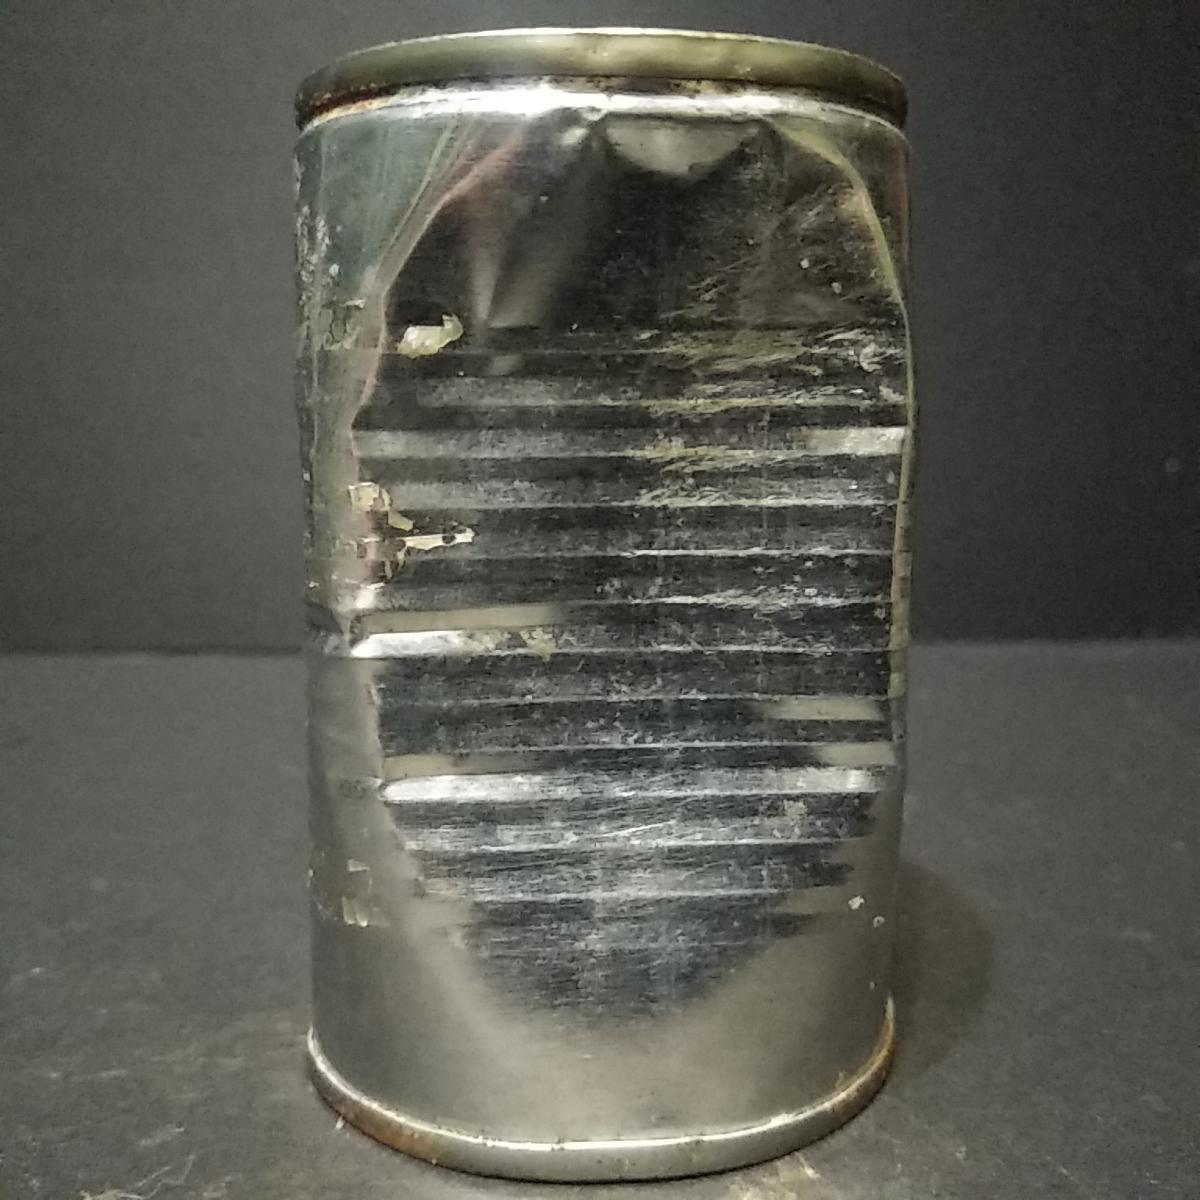Dented: (278, 16, 932, 1190)
